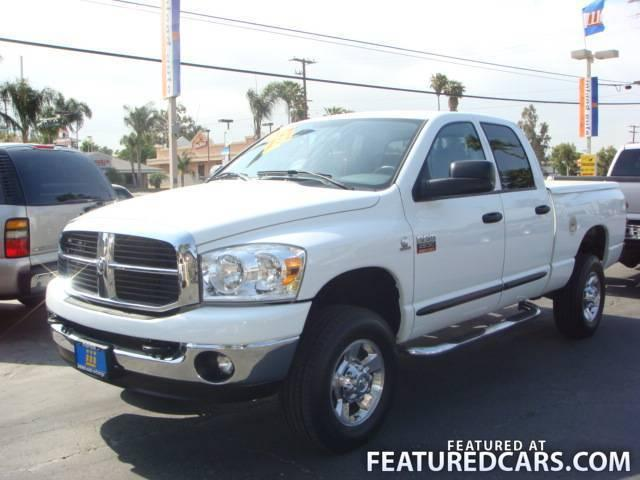car: (48, 109, 622, 438)
